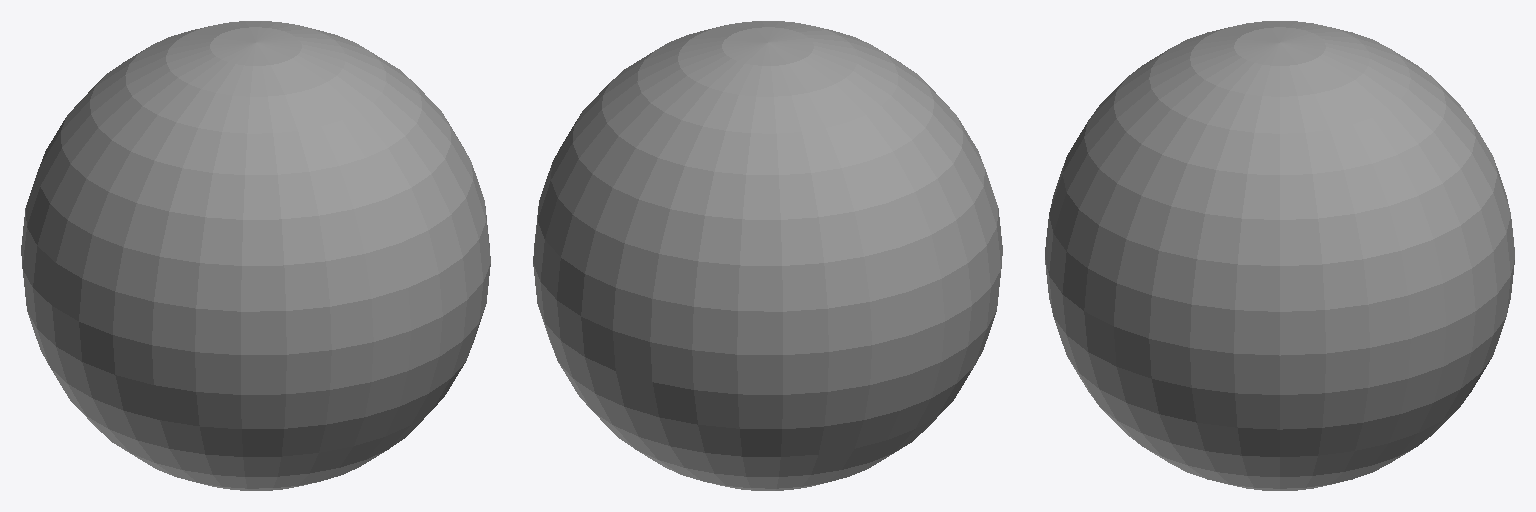
Rendered from ball.obj.
3 renders of one model, left to right at view 1: azimuth 30°, elevation 25°; view 2: azimuth 150°, elevation 25°; view 3: azimuth 270°, elevation 25°, orthographic.
Visible parts, largest first — view 1: Sphere_Sphere.001; view 2: Sphere_Sphere.001; view 3: Sphere_Sphere.001.
Boxes of the visible parts, box(x1,y1,x2,y2) form: Sphere_Sphere.001: box(21, 21, 490, 490); Sphere_Sphere.001: box(533, 21, 1002, 490); Sphere_Sphere.001: box(1045, 21, 1514, 490).
Size of the model in its own units: 2 by 2 by 2.